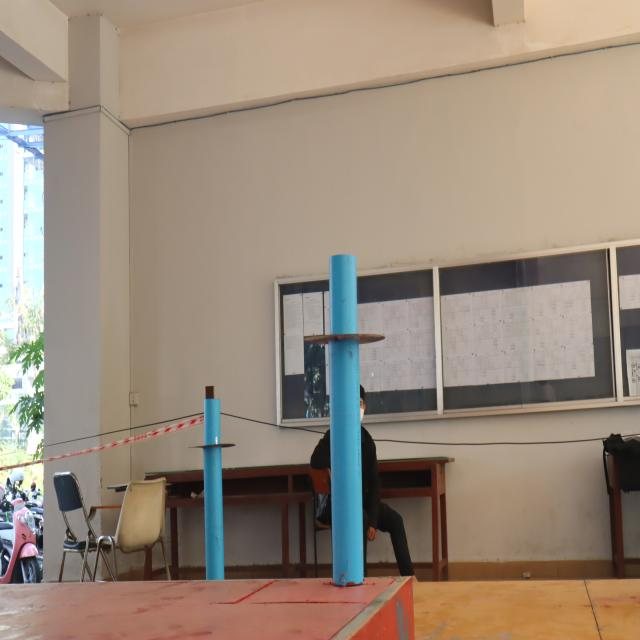pole: (298, 248, 386, 382), (185, 394, 249, 486)
